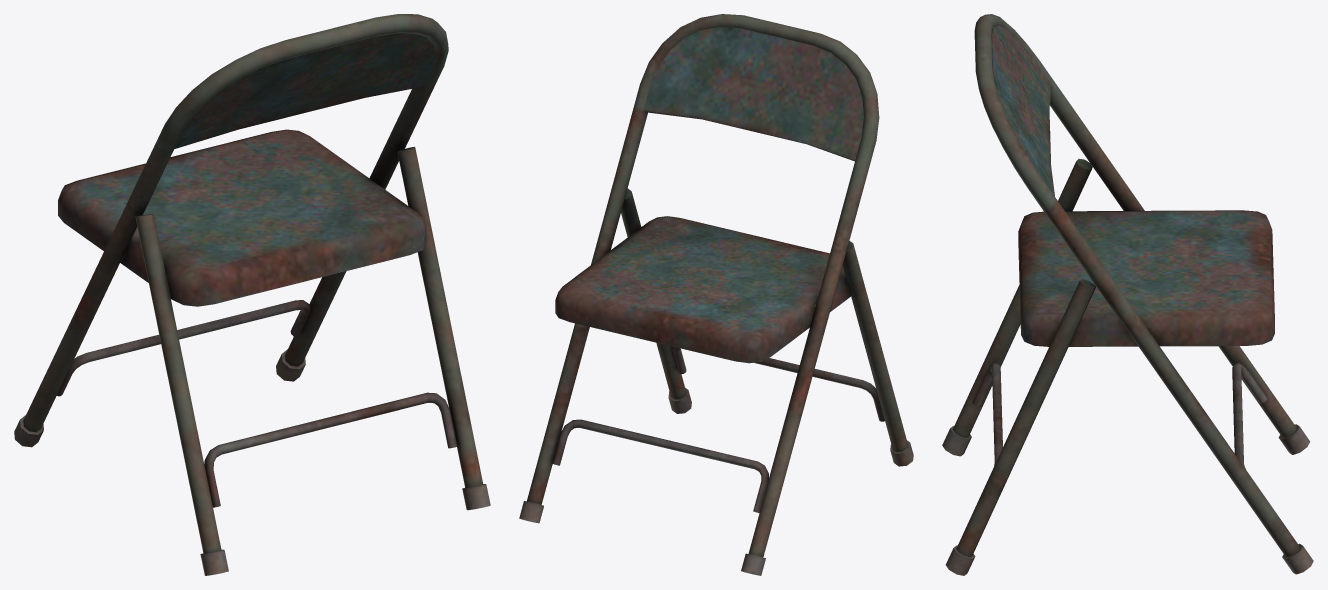
Rendered from CampChair.FBX.
3 views of the same model, side by side, from view 1: azimuth 30°, elevation 25°; view 2: azimuth 150°, elevation 25°; view 3: azimuth 270°, elevation 25° (orthographic). The views are drawn at different scales.
Parts seen in each view (by area): view 1: CampChair; view 2: CampChair; view 3: CampChair.
Boxes of the visible parts, x1,y1,x2,y2 form: CampChair: (14,14,490,575); CampChair: (519,14,913,575); CampChair: (942,14,1313,575).
Bounding box in the file's own units: 55.82 × 92.86 × 66.69.
Materials: 1 (1 with a texture image).
